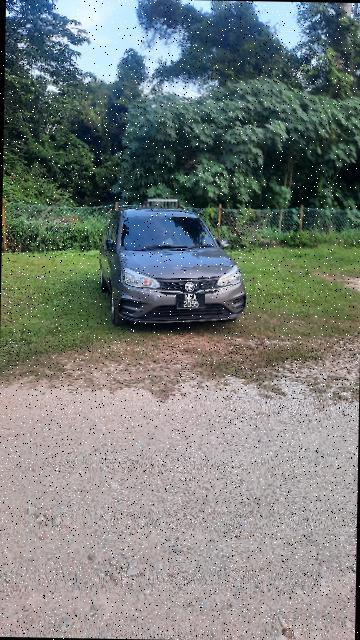License_Plate: (175, 292, 206, 311)
car: (97, 207, 252, 330)
